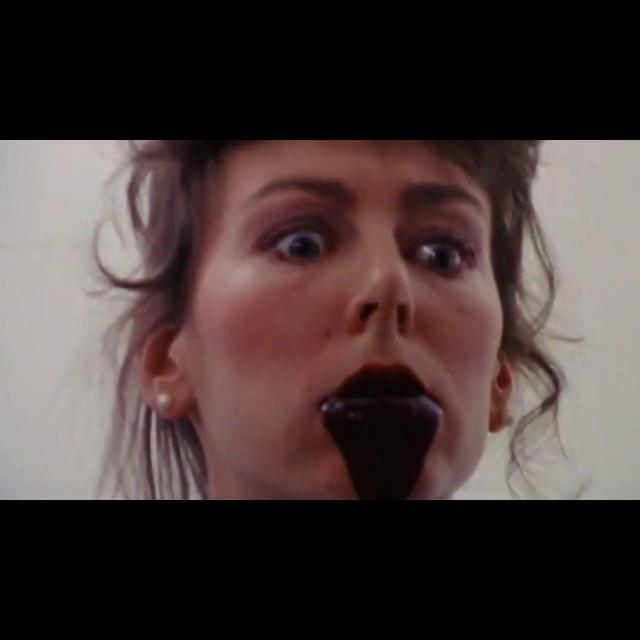blood: (318, 362, 446, 500)
